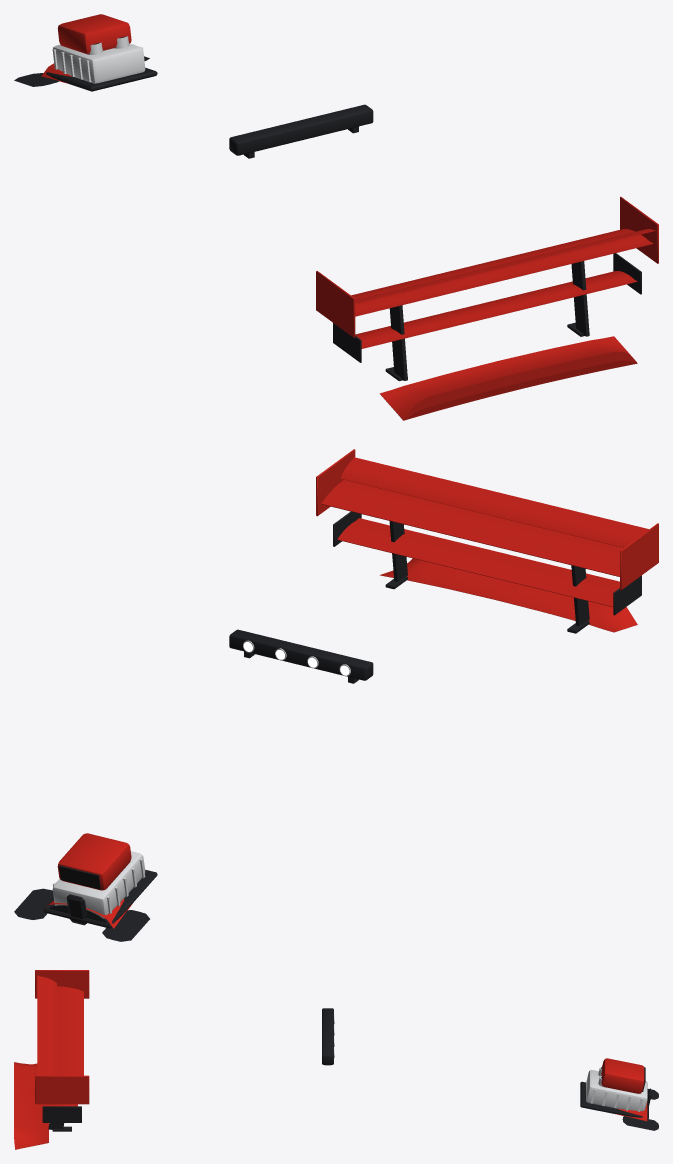
Rendered from electric_pickup_kit.glb.
3 views of the same model, one above another, from view 1: azimuth 30°, elevation 25°; view 2: azimuth 150°, elevation 25°; view 3: azimuth 270°, elevation 25° (orthographic). The views are drawn at different scales.
Visible parts, largest first — view 1: spoiler_mega, spoiler_ducktail, spoiler_wing, bonnet_blower, roof_lights, spoiler_lip; view 2: spoiler_mega, spoiler_wing, bonnet_blower, spoiler_ducktail, roof_lights, bonnet_vents; view 3: spoiler_mega, bonnet_blower, spoiler_ducktail, spoiler_wing, roof_lights, bonnet_vents.
Part boxes in pixels (box(x1,y1,x2,y2)): spoiler_mega: box(316, 196, 658, 381); spoiler_ducktail: box(379, 336, 637, 420); spoiler_wing: box(333, 253, 641, 369); bonnet_blower: box(46, 14, 157, 91); roof_lights: box(229, 104, 373, 158); spoiler_lip: box(399, 360, 637, 420); spoiler_mega: box(316, 449, 658, 633); spoiler_wing: box(333, 511, 641, 625); bonnet_blower: box(43, 833, 157, 928); spoiler_ducktail: box(380, 558, 637, 632); roof_lights: box(229, 629, 373, 683); bonnet_vents: box(14, 888, 149, 941); spoiler_mega: box(35, 970, 89, 1131); bonnet_blower: box(580, 1058, 651, 1119); spoiler_ducktail: box(14, 1062, 48, 1149); spoiler_wing: box(42, 1104, 81, 1128); roof_lights: box(322, 1008, 334, 1065); bonnet_vents: box(622, 1089, 658, 1130).
Size of the model in its own units: 2.08 by 0.8134 by 5.34.
